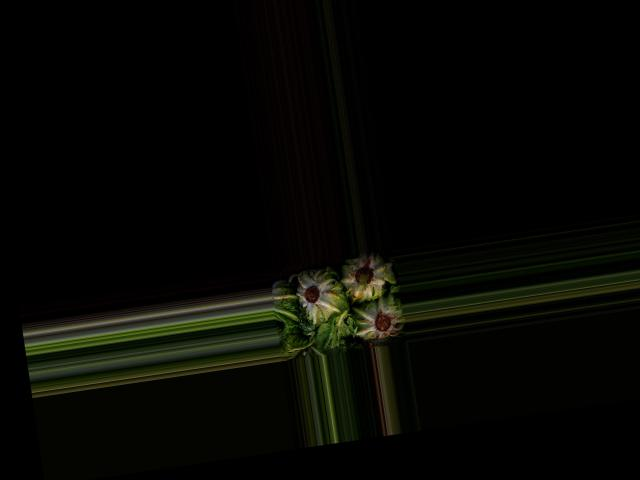lettuce: (350, 293, 406, 343)
